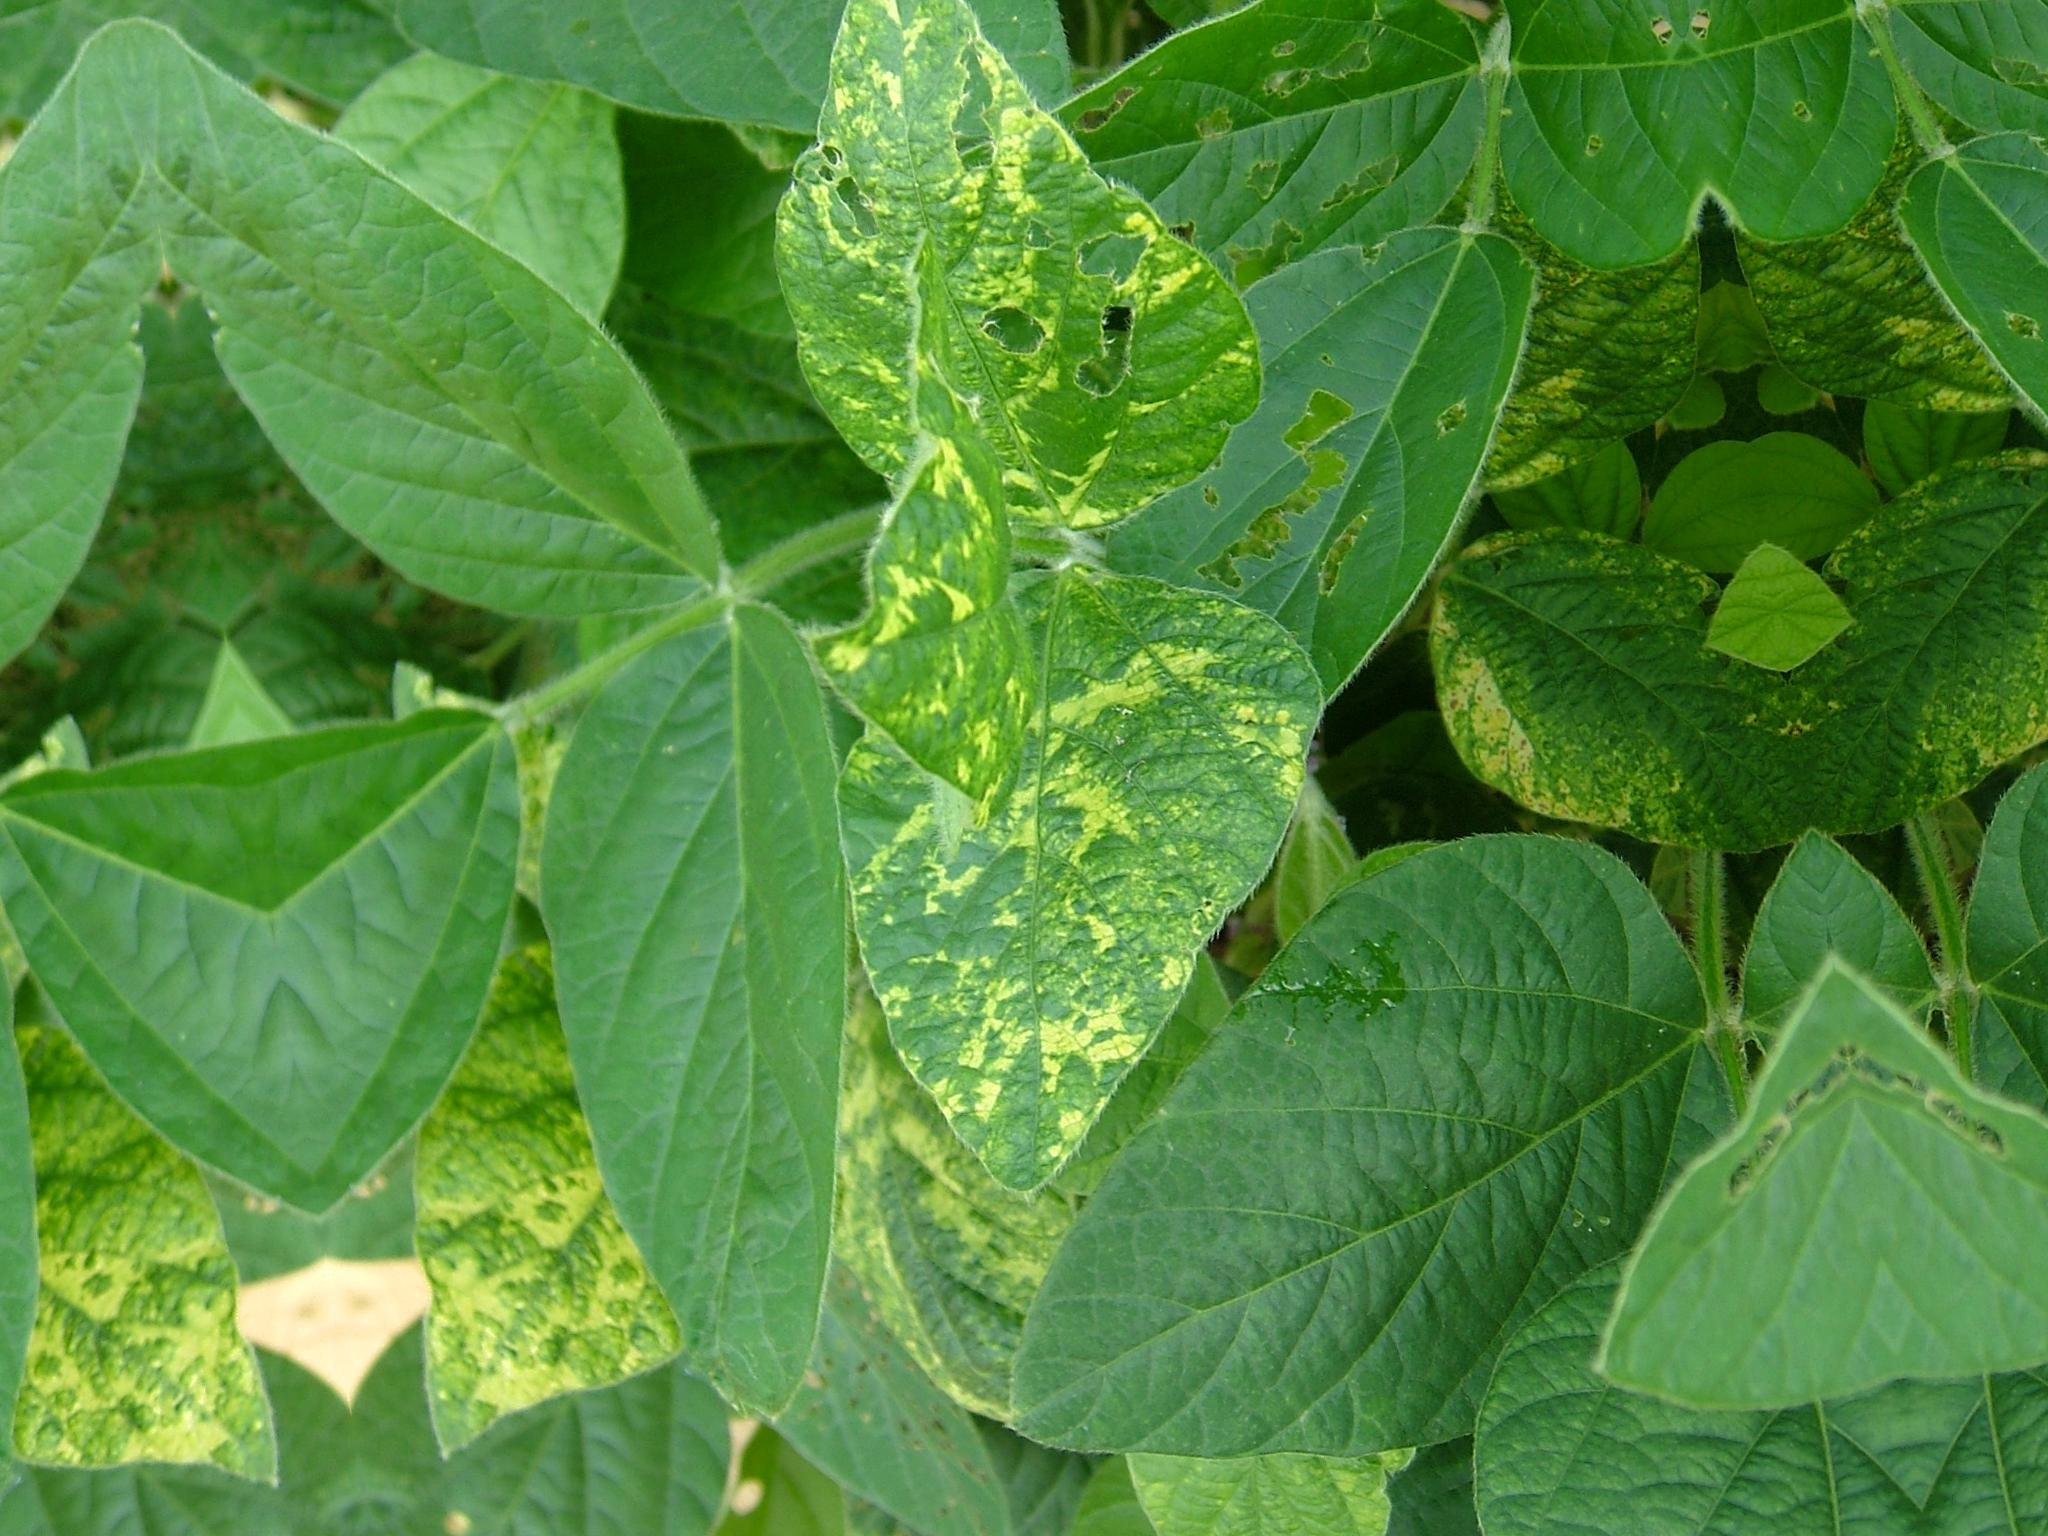Tomato leaf: (486, 591, 938, 1413), (827, 540, 1372, 1178), (700, 0, 1291, 575)
